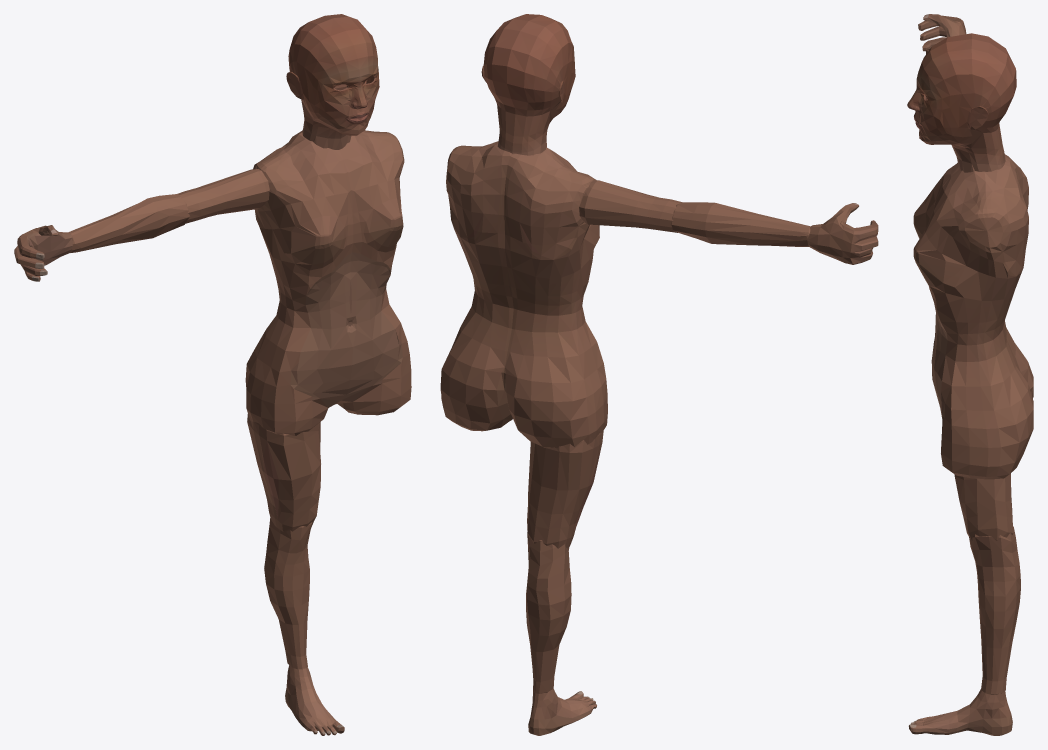
Rendered from baseSkinToneLightDarkFemale.glb.
3 renders of one model, left to right at view 1: azimuth 30°, elevation 25°; view 2: azimuth 150°, elevation 25°; view 3: azimuth 270°, elevation 25°, orthographic. The views are drawn at different scales.
Visible parts, largest first — view 1: nakedTorsoSkinToneLightDarkFemale, nakedHeadSkinToneLightDarkFemale, nakedUpperLegSkinToneLightDarkFemale, nakedLowerLegSkinToneLightDarkFemale, nakedLowerArmSkinToneLightDarkFemale, nakedUpperArmSkinToneLightDarkFemale, nakedFootSkinToneLightDarkFemale, nakedHandSkinToneLightDarkFemale; view 2: nakedTorsoSkinToneLightDarkFemale, nakedHeadSkinToneLightDarkFemale, nakedUpperLegSkinToneLightDarkFemale, nakedLowerLegSkinToneLightDarkFemale, nakedLowerArmSkinToneLightDarkFemale, nakedUpperArmSkinToneLightDarkFemale, nakedHandSkinToneLightDarkFemale, nakedFootSkinToneLightDarkFemale; view 3: nakedTorsoSkinToneLightDarkFemale, nakedHeadSkinToneLightDarkFemale, nakedLowerLegSkinToneLightDarkFemale, nakedUpperLegSkinToneLightDarkFemale, nakedFootSkinToneLightDarkFemale, nakedHandSkinToneLightDarkFemale.
Boxes of the visible parts, bbox=[...] form: nakedTorsoSkinToneLightDarkFemale: bbox=[245, 130, 411, 435]; nakedHeadSkinToneLightDarkFemale: bbox=[286, 14, 379, 149]; nakedUpperLegSkinToneLightDarkFemale: bbox=[247, 414, 320, 531]; nakedLowerLegSkinToneLightDarkFemale: bbox=[264, 518, 313, 669]; nakedLowerArmSkinToneLightDarkFemale: bbox=[68, 194, 189, 252]; nakedUpperArmSkinToneLightDarkFemale: bbox=[177, 169, 269, 223]; nakedFootSkinToneLightDarkFemale: bbox=[285, 665, 344, 735]; nakedHandSkinToneLightDarkFemale: bbox=[14, 225, 72, 281]; nakedTorsoSkinToneLightDarkFemale: bbox=[440, 141, 607, 447]; nakedHeadSkinToneLightDarkFemale: bbox=[481, 14, 575, 155]; nakedUpperLegSkinToneLightDarkFemale: bbox=[527, 431, 603, 548]; nakedLowerLegSkinToneLightDarkFemale: bbox=[526, 532, 571, 693]; nakedLowerArmSkinToneLightDarkFemale: bbox=[671, 202, 810, 246]; nakedUpperArmSkinToneLightDarkFemale: bbox=[579, 180, 681, 232]; nakedHandSkinToneLightDarkFemale: bbox=[807, 203, 878, 264]; nakedFootSkinToneLightDarkFemale: bbox=[528, 689, 596, 735]; nakedTorsoSkinToneLightDarkFemale: bbox=[913, 154, 1033, 479]; nakedHeadSkinToneLightDarkFemale: bbox=[907, 33, 1016, 172]; nakedLowerLegSkinToneLightDarkFemale: bbox=[969, 526, 1020, 694]; nakedUpperLegSkinToneLightDarkFemale: bbox=[954, 473, 1013, 540]; nakedFootSkinToneLightDarkFemale: bbox=[908, 688, 1012, 735]; nakedHandSkinToneLightDarkFemale: bbox=[918, 14, 966, 53].
Size of the model in its own units: 1.15 by 1.87 by 0.3027.
